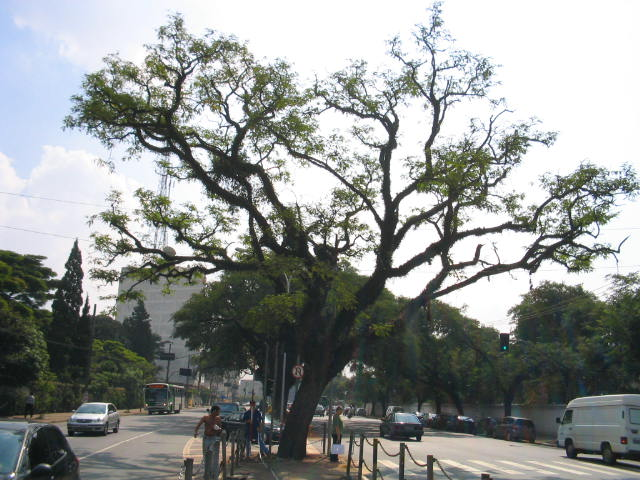crown: (65, 5, 640, 347)
stem: (272, 362, 334, 456)
stick: (245, 359, 258, 460)
tree: (63, 5, 640, 457)
